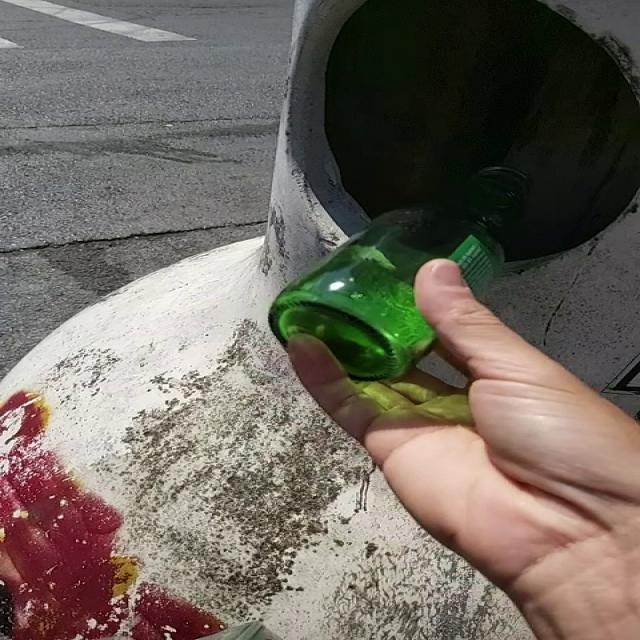glass: (269, 166, 532, 381)
